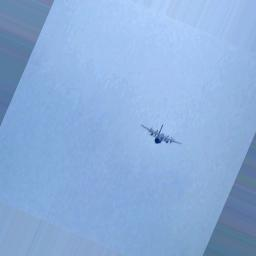Airplane: (140, 121, 182, 146)
